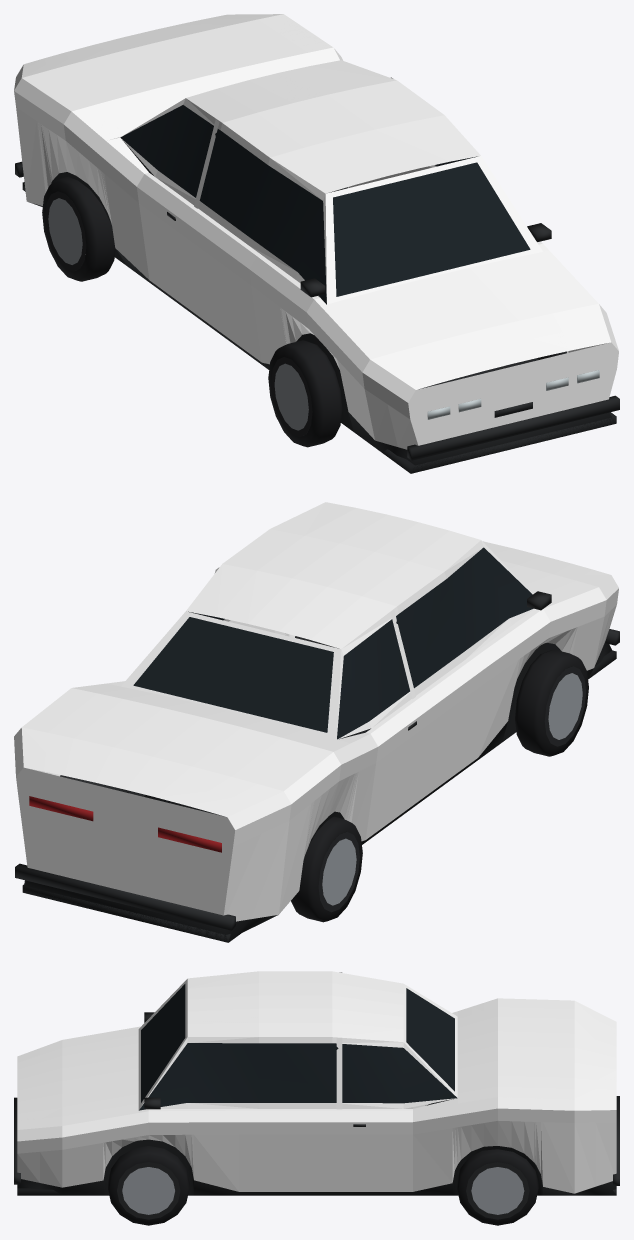
File: keldorf_porta.glb
3 renders of one model, top to bottom at view 1: azimuth 30°, elevation 25°; view 2: azimuth 150°, elevation 25°; view 3: azimuth 270°, elevation 25°, orthographic. The views are drawn at different scales.
Visible parts, largest first — view 1: Body_Paint, Body_Details, Mount_FrontLeft_Wheel_Details, Mount_RearLeft_Wheel_Details; view 2: Body_Paint, Body_Details, Mount_FrontLeft_Wheel_Details, Mount_RearLeft_Wheel_Details; view 3: Body_Paint, Body_Details, Mount_FrontRight_Wheel_Details, Mount_RearRight_Wheel_Details.
Part boxes in pixels (box(x1,y1,x2,y2)): Body_Paint: box(14, 14, 618, 449); Body_Details: box(15, 105, 619, 473); Mount_FrontLeft_Wheel_Details: box(268, 340, 342, 447); Mount_RearLeft_Wheel_Details: box(42, 177, 115, 281); Body_Paint: box(14, 502, 618, 921); Body_Details: box(15, 547, 619, 942); Mount_FrontLeft_Wheel_Details: box(515, 649, 588, 756); Mount_RearLeft_Wheel_Details: box(291, 816, 362, 922); Body_Paint: box(17, 971, 616, 1193); Body_Details: box(14, 984, 619, 1195); Mount_FrontRight_Wheel_Details: box(108, 1146, 189, 1225); Mount_RearRight_Wheel_Details: box(457, 1149, 538, 1225).
Bounding box in the file's own units: 1.97 × 1.53 × 4.82.
Materials: 2 (1 with a texture image).
